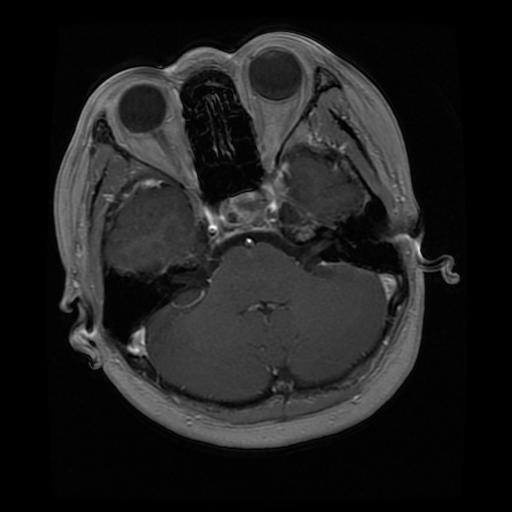Pituirity_tumour: (210, 187, 282, 237)
